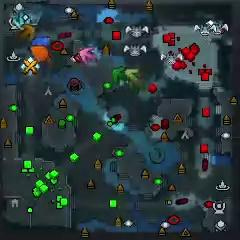Other: (19, 57, 39, 78)
p1: (31, 36, 51, 46)
p5: (29, 45, 49, 63)
x1: (79, 47, 97, 63)
x2: (123, 67, 140, 84)
x3: (12, 11, 31, 28)
x4: (112, 66, 128, 87)
x5: (18, 24, 35, 40)
